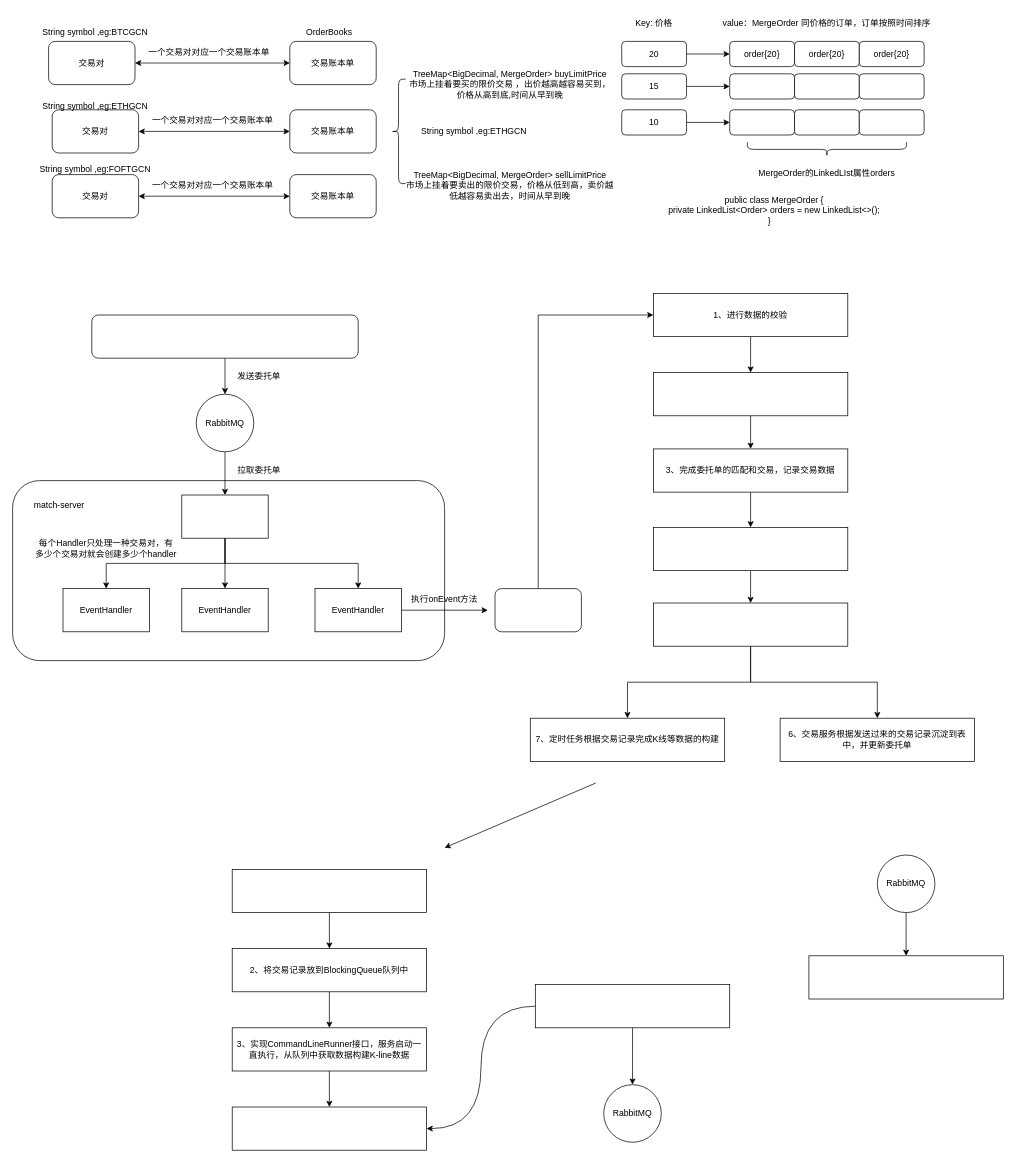
This 1016x1163 diagram has some shape labels left out. The shapes that lost their labels are listed below. From the top down, each one's box as (x1, y1, x2, y2) in pixels, then its label:
(91, 314, 358, 358): exchange-server（交易服务）
(653, 372, 848, 416): 2、从交易账本单中得到交易对挂在市场的订单，Map.Entry<BigDecimal, MergeOrder>的迭代器
(181, 494, 268, 538): RingBuffer
(653, 527, 848, 571): 4、若订单没有完成，将该订单挂载到市场上
(494, 588, 581, 632): 开始撮合
(653, 602, 848, 646): 5、发送交易记录到MQ中
(231, 869, 427, 913): 1、定时任务模块拉取MQ中的交易记录
(808, 955, 1003, 999): 推送服务拉取MQ的消息，推送到前端
(535, 984, 730, 1028): 定时任务每10s去拉取Redis的K线数据放到MQ中，供推送服务Tio使用
(231, 1106, 427, 1150): 4、将数据放到Redis中，使用的结构是List
